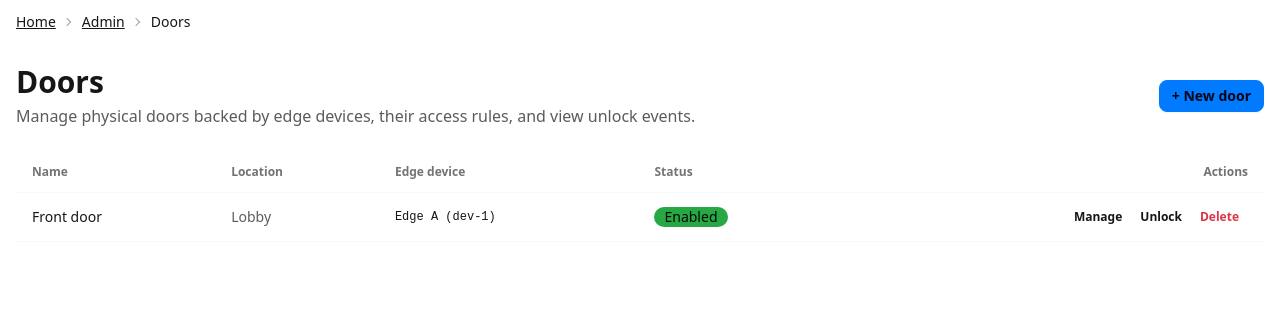
Test: unlocking and republishing › reports a successful admin unlock by name
Click the button "Unlock".
click(1161, 217)  # box 1131,205 -> 1191,229
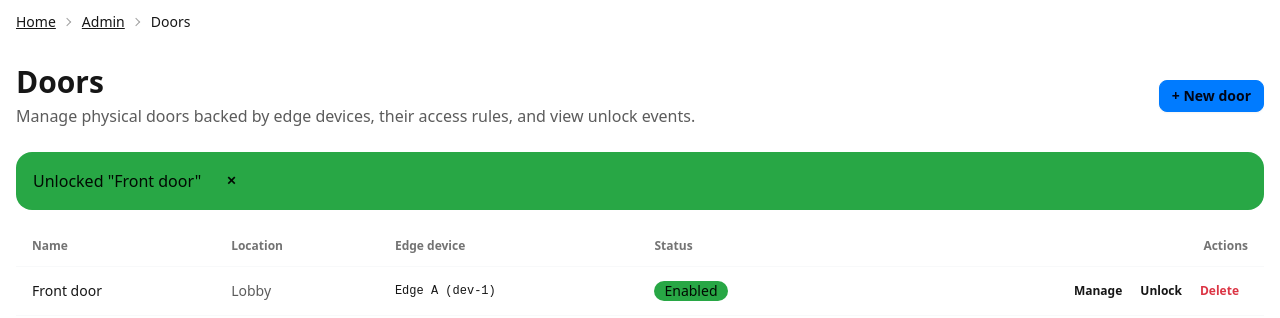
Check: the element with class "alert-success" shows "Unlocked \"Front door\"", box 33,170 -> 201,192
